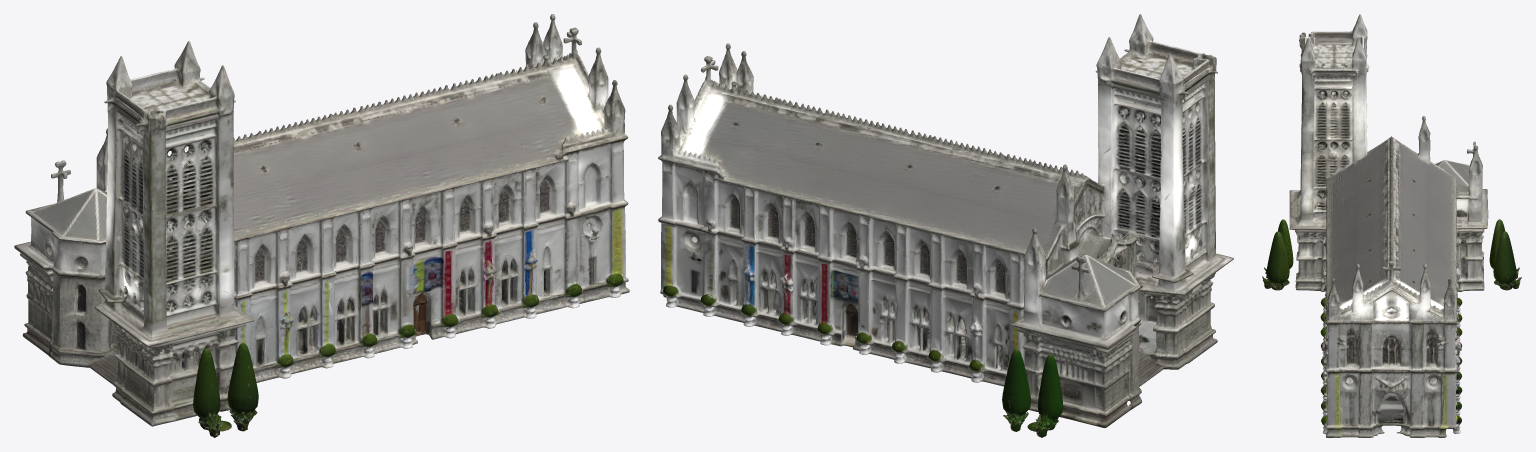
The model's file is nhatho.glb.
The picture shows the model from 3 angles, left to right: view 1: azimuth 30°, elevation 25°; view 2: azimuth 150°, elevation 25°; view 3: azimuth 270°, elevation 25°; orthographic projection. The views are drawn at different scales.
Visible parts, largest first — view 1: Mesh_0; view 2: Mesh_0; view 3: Mesh_0.
Part boxes in pixels (x1,y1,x2,y2): Mesh_0: (14, 14, 629, 437); Mesh_0: (658, 14, 1233, 437); Mesh_0: (1262, 14, 1521, 437).
Bounding box in the file's own units: 1.91 × 1.24 × 1.14.
1 material, 1 textured.
